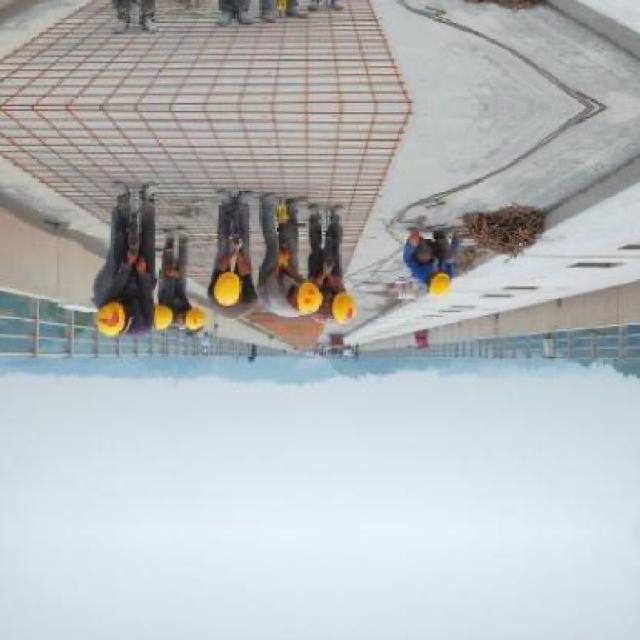con casco: (202, 257, 255, 316), (422, 243, 461, 316), (101, 294, 149, 351), (322, 289, 372, 336), (285, 276, 333, 320), (178, 311, 226, 335)
